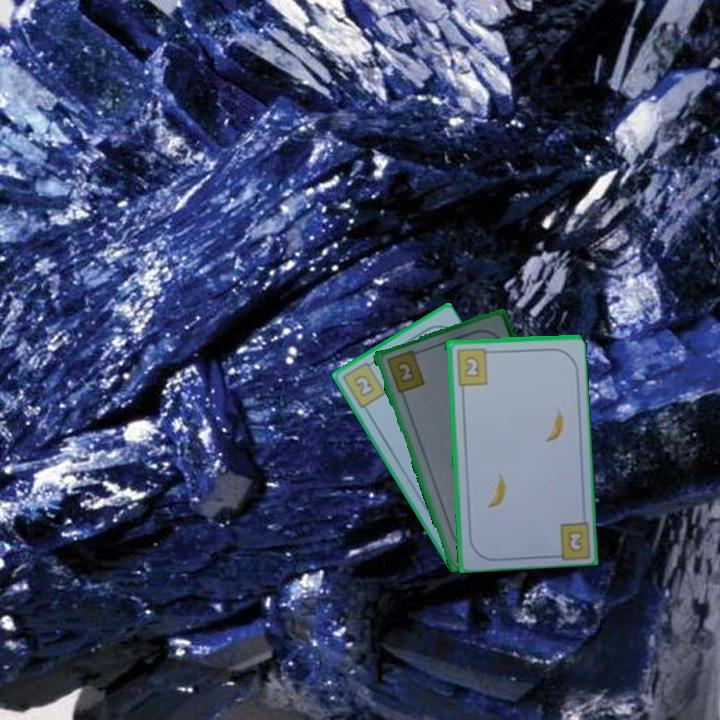2b: (339, 356, 388, 411), (382, 346, 427, 396), (453, 344, 495, 388), (566, 529, 583, 552)
